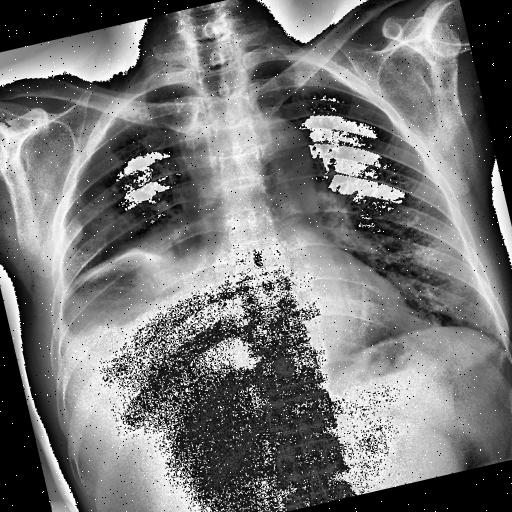0- Aortic enlargement: (233, 106, 323, 210), (228, 110, 320, 204)
10- Pleural effusion: (28, 168, 261, 437), (42, 234, 229, 426), (54, 288, 254, 422), (67, 238, 166, 288)
13- Pulmonary fibrosis: (68, 238, 169, 286)
7- Lung Opacity: (42, 192, 222, 332), (34, 170, 180, 328), (58, 263, 196, 339)
